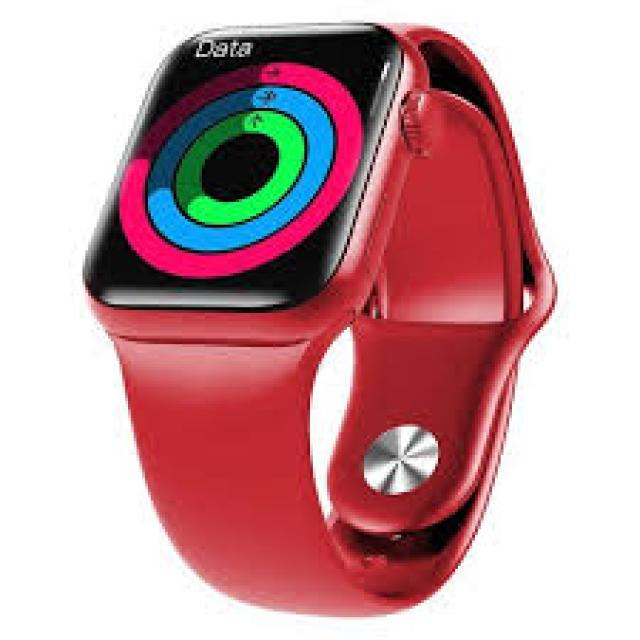objects: (85, 23, 555, 619)
